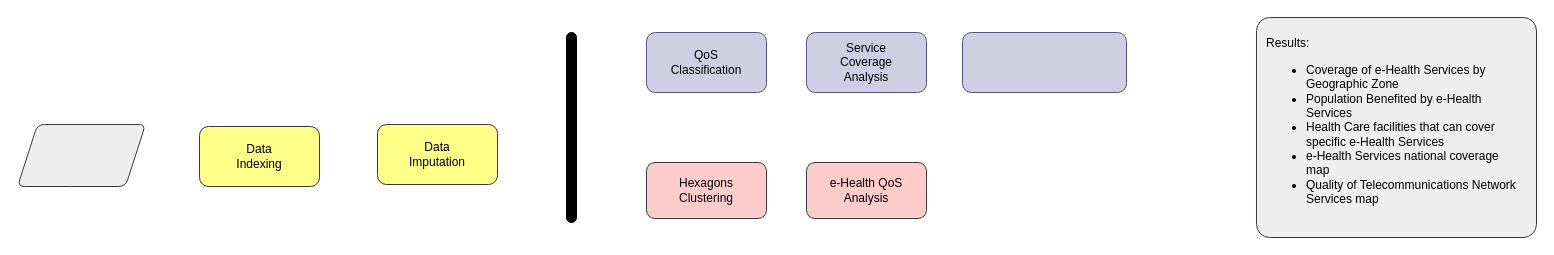
Image size: 1554x255. Some labels were removed from this diagram. Here are the shapes that lost their labels. From the top down, the box of each, then its label:
(962, 32, 1126, 92): Health Care facilities Analysis by Service and Category
(16, 124, 146, 186): Demography and SpeedTest
